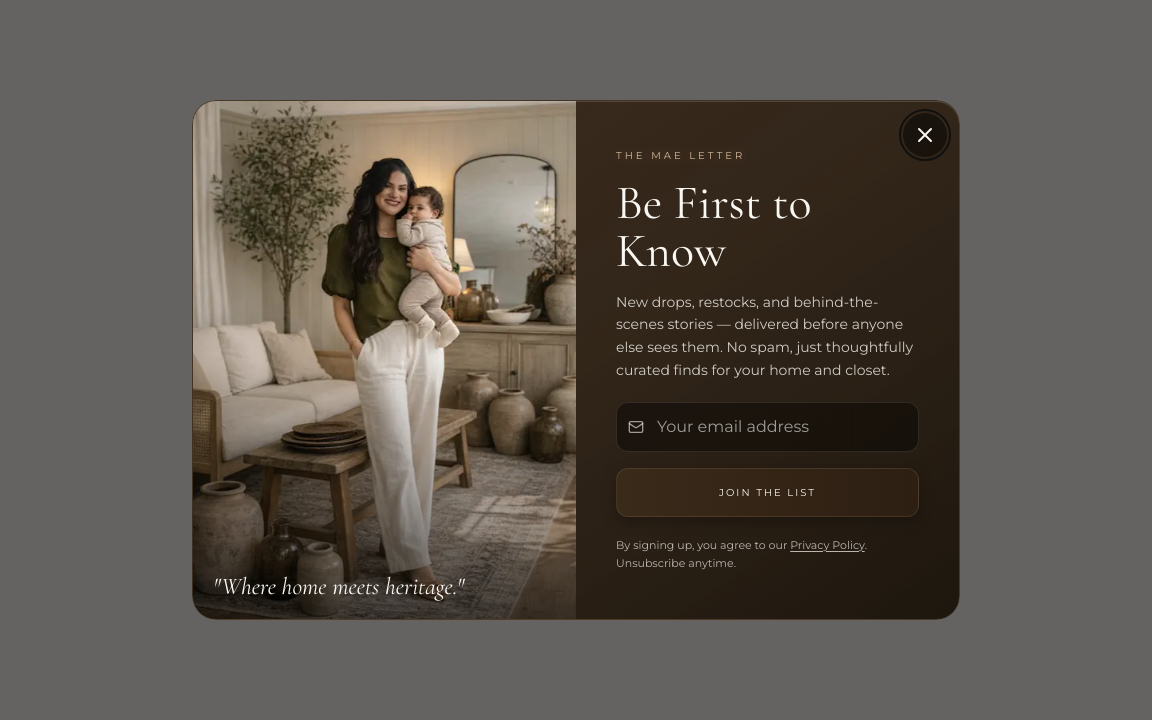
Test case: Newsletter popup › recovers from a rejected signup and permits retry
Type "reader@example.com" into the field labelled "email address" at {"x": 768, "y": 427}, box [616, 402, 919, 452]
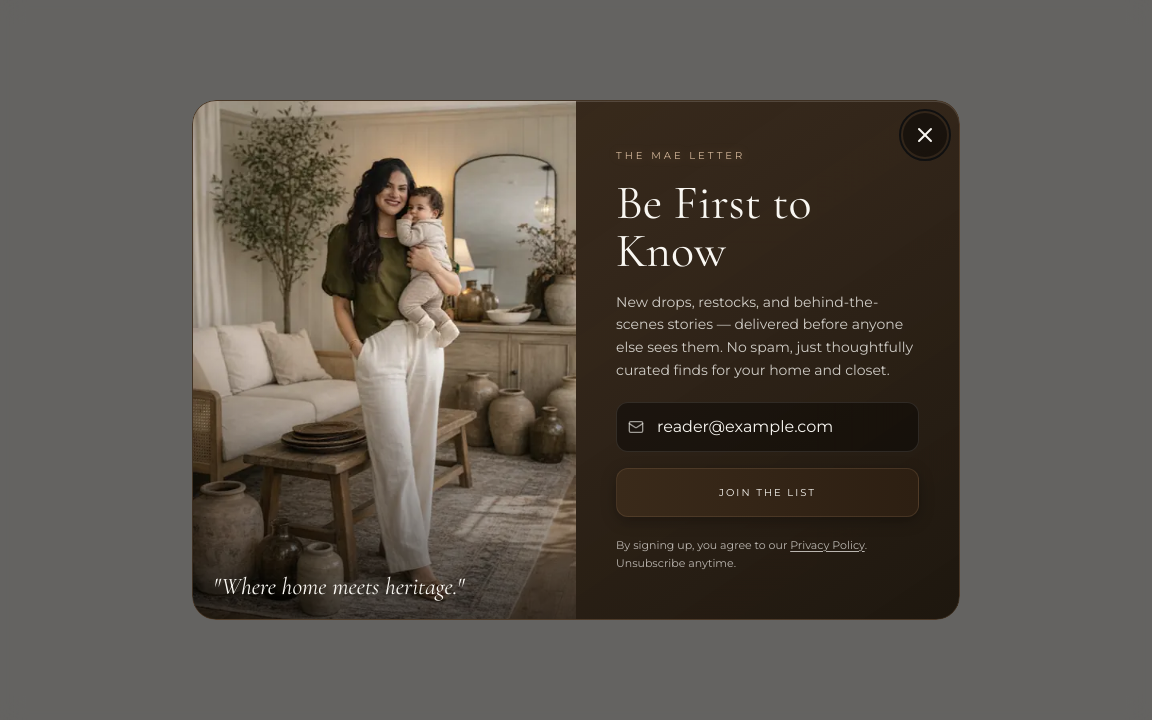
Submit the form "Join the List", box [616, 402, 919, 517]
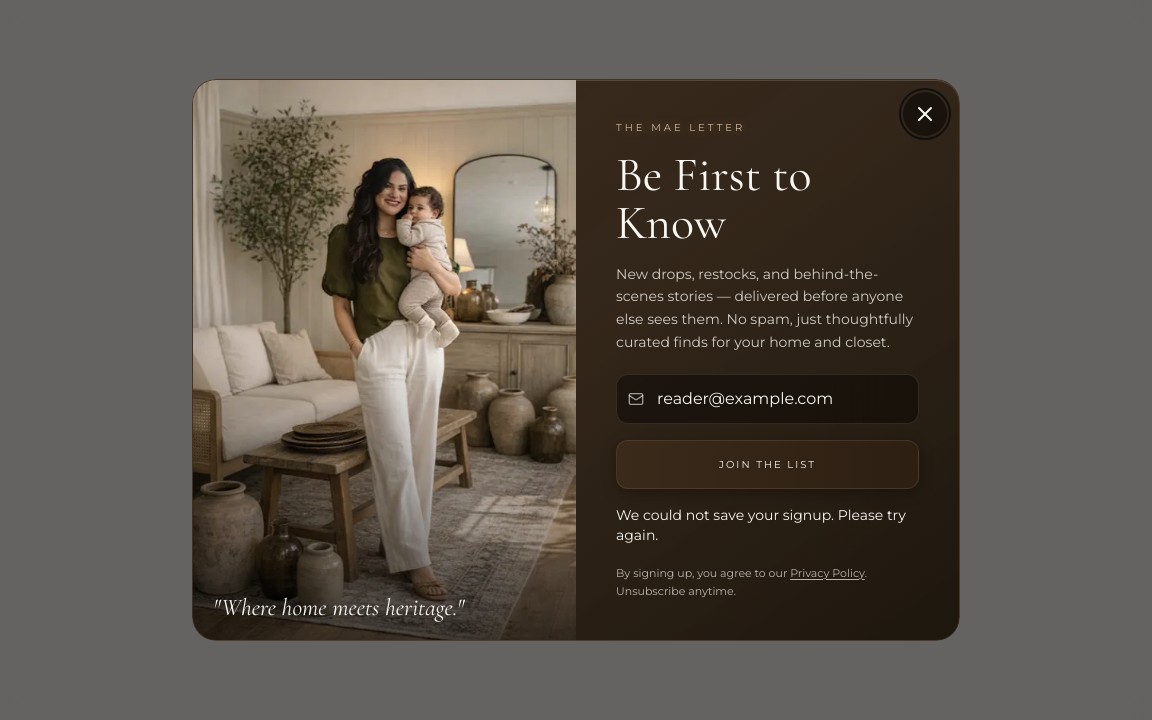
Expected: the button "Join the List" is enabled, [616, 440, 919, 489]
Expected: the message shows "Please try again", [616, 506, 906, 544]
Submit the form "Join the List", box [616, 374, 919, 545]
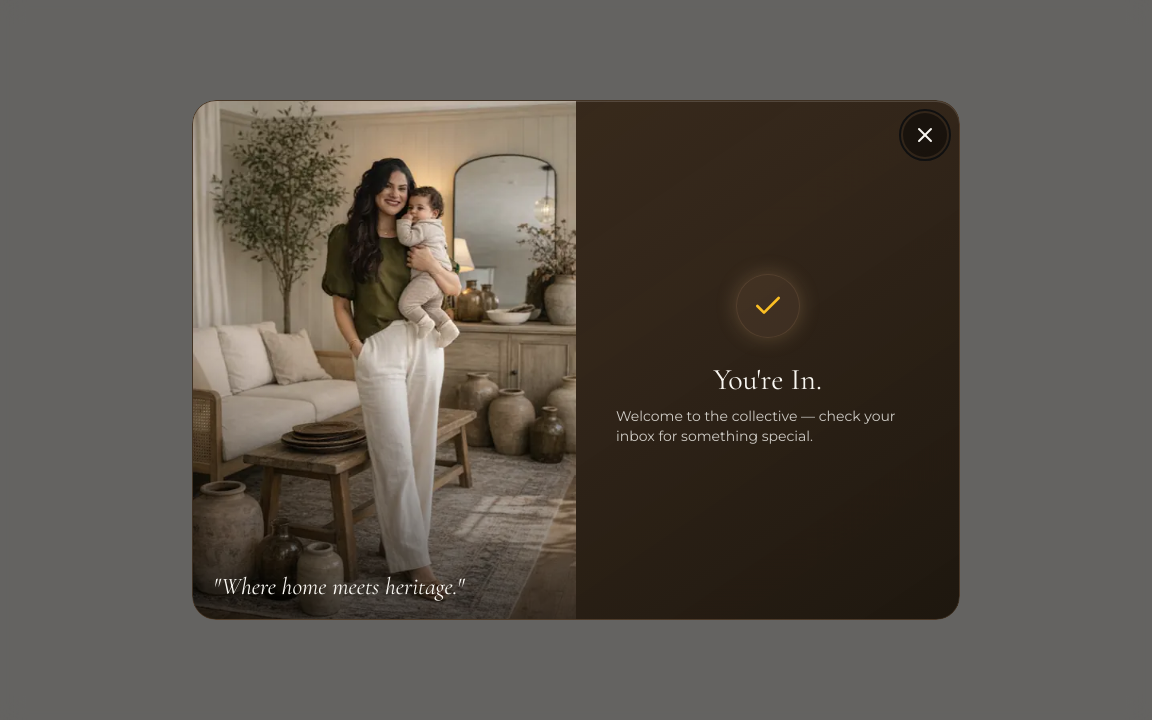
Expected: the heading "You're In." is shown, [713, 362, 822, 398]
